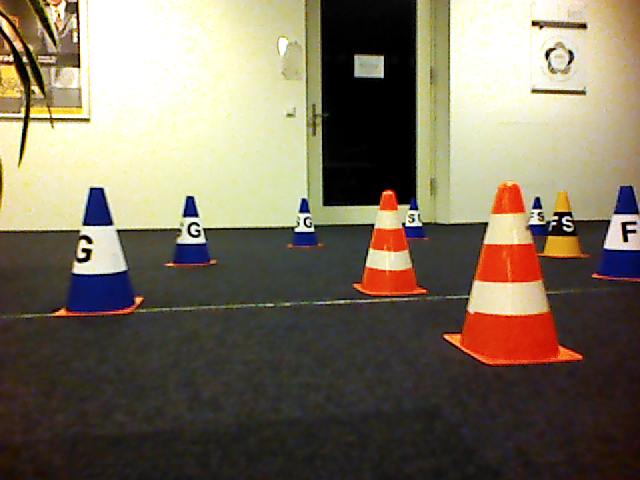bluecone: (52, 186, 144, 318), (593, 184, 640, 282), (162, 196, 220, 268)
yellowcone: (540, 191, 590, 261)
